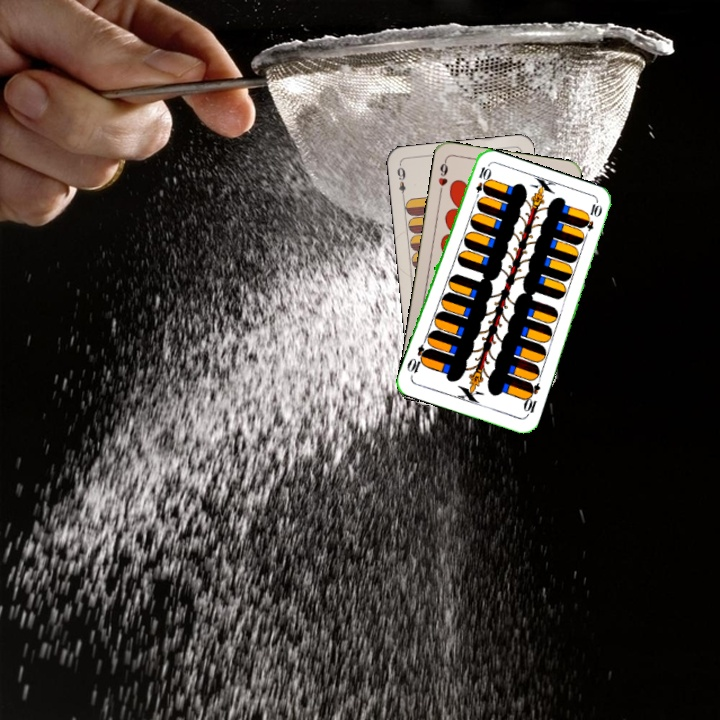E10: (519, 379, 543, 419), (471, 163, 492, 203)
E9: (393, 161, 408, 202)
H9: (434, 156, 450, 197)
